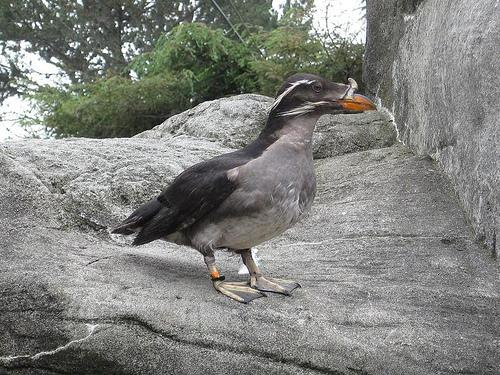008.Rhinoceros_Auklet: (109, 71, 378, 305)
